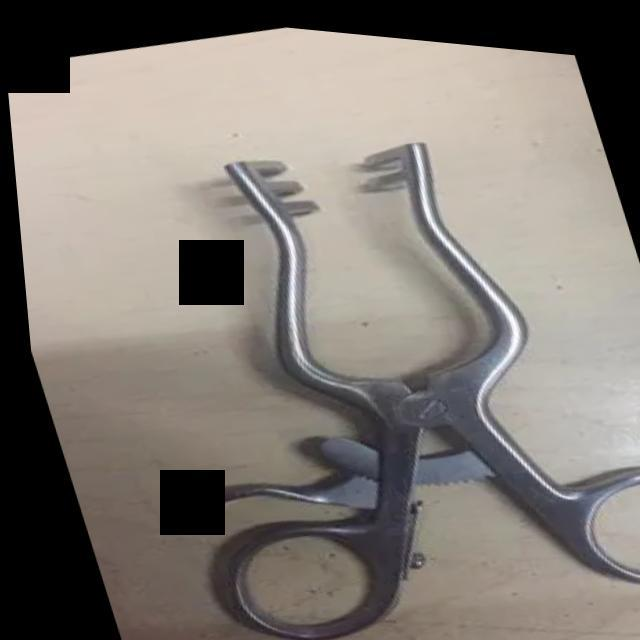Self Retractor: (74, 55, 640, 640)
